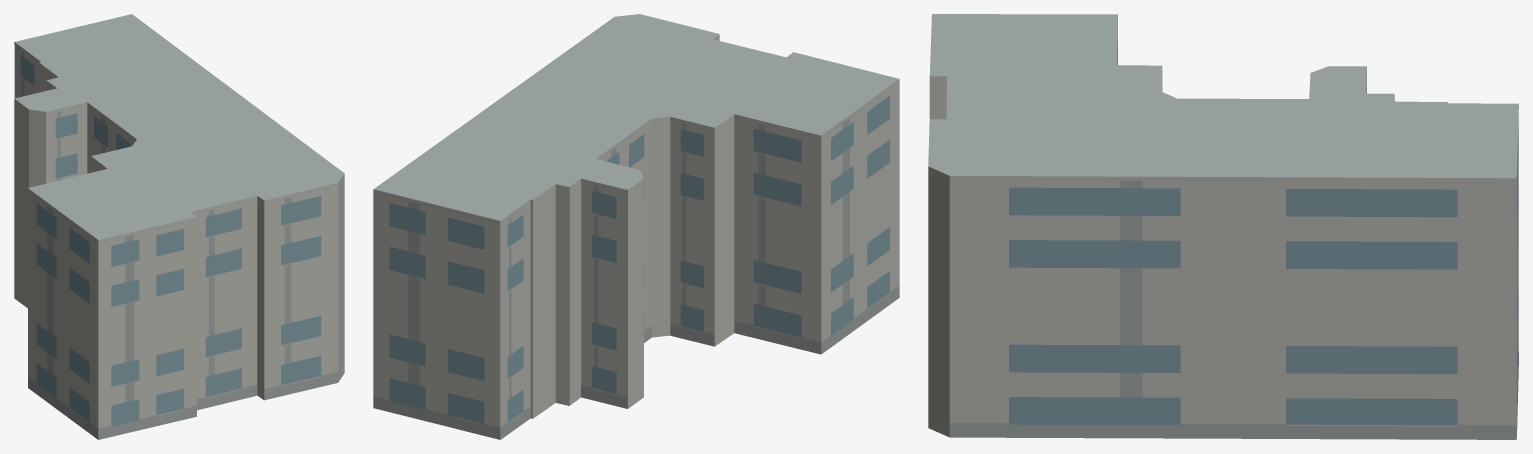
File: survey-upis-32637693.glb
The picture shows the model from 3 angles, left to right: view 1: azimuth 30°, elevation 25°; view 2: azimuth 150°, elevation 25°; view 3: azimuth 270°, elevation 25°; orthographic projection. The views are drawn at different scales.
Parts seen in each view (by area): view 1: survey-upis-32637693.tmp; view 2: survey-upis-32637693.tmp; view 3: survey-upis-32637693.tmp.
Boxes of the visible parts, x1=… form: survey-upis-32637693.tmp: x1=14, y1=14, x2=344, y2=439; survey-upis-32637693.tmp: x1=373, y1=14, x2=899, y2=439; survey-upis-32637693.tmp: x1=928, y1=14, x2=1518, y2=439.
Size of the model in its own units: 20.53 by 15.25 by 31.2.
